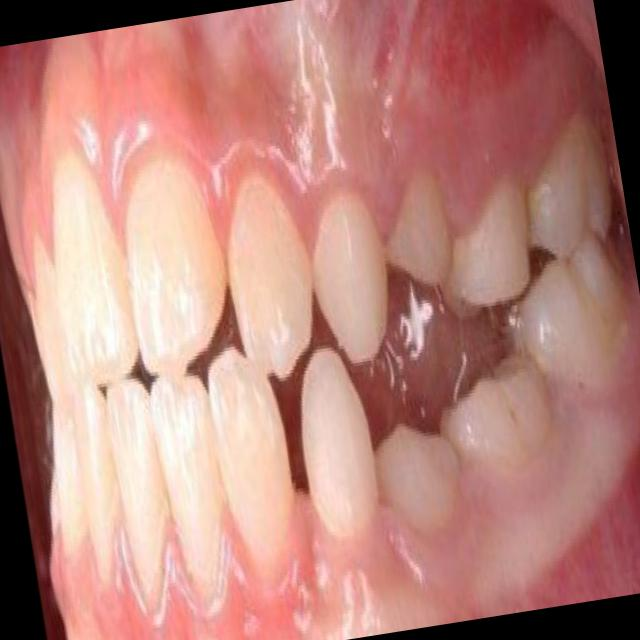Tooth: (125, 158, 227, 378), (53, 154, 141, 388), (208, 344, 292, 584), (499, 231, 626, 375), (228, 180, 314, 378), (150, 372, 223, 583), (301, 346, 380, 535), (107, 379, 171, 602), (442, 348, 557, 472), (527, 108, 609, 261), (313, 195, 389, 360), (73, 384, 127, 584), (447, 175, 530, 303), (374, 425, 462, 528), (384, 167, 454, 281), (36, 235, 72, 404), (52, 395, 89, 554)
